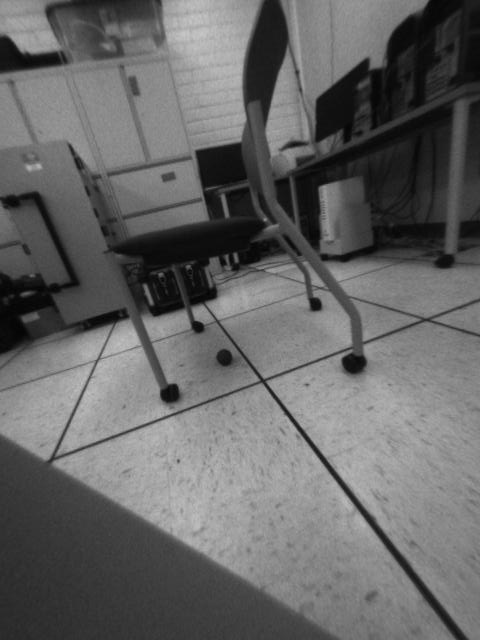dogtoy: (209, 340, 238, 367)
